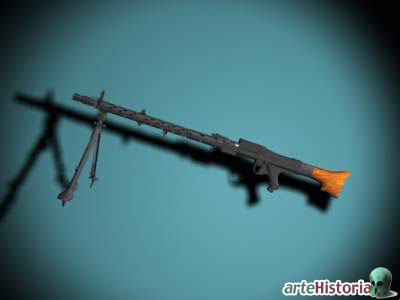rifle: (67, 91, 349, 233)
